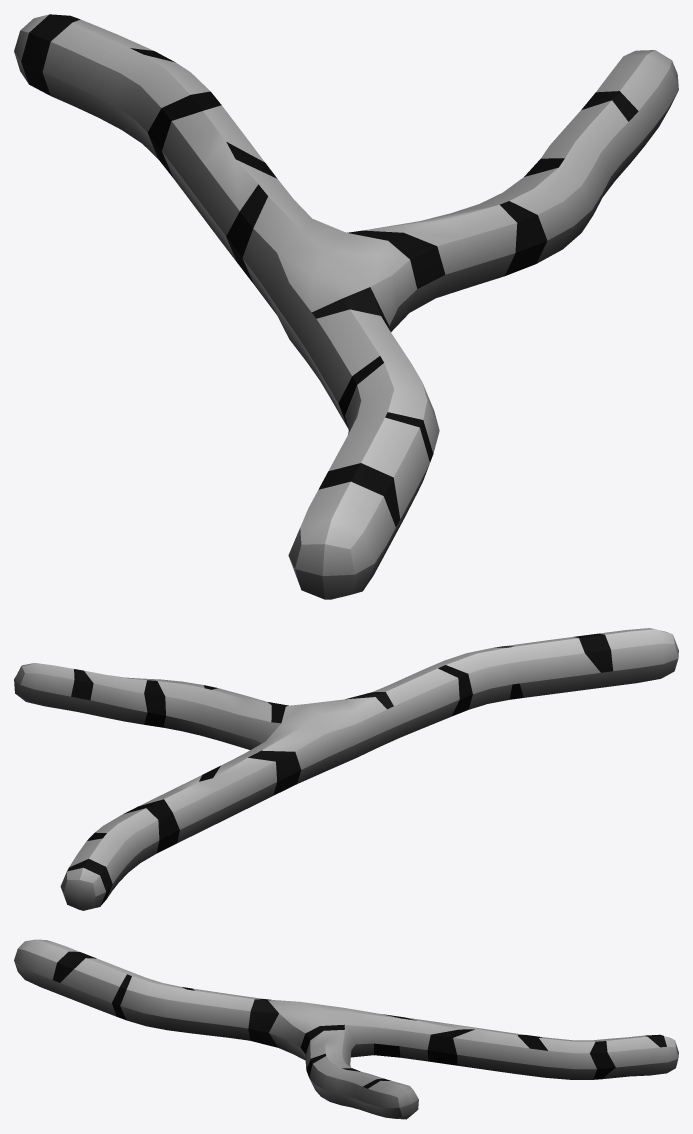
File: birch_branch2.fbx
3 views of the same model, one above another, from view 1: azimuth 30°, elevation 25°; view 2: azimuth 150°, elevation 25°; view 3: azimuth 270°, elevation 25° (orthographic). The views are drawn at different scales.
Visible parts, largest first — view 1: birch branch1; view 2: birch branch1; view 3: birch branch1.
Boxes of the visible parts, x1,y1,x2,y2 form: birch branch1: [14, 14, 678, 599]; birch branch1: [14, 628, 678, 910]; birch branch1: [14, 939, 678, 1119].
Size of the model in its own units: 184 by 33.15 by 280.
